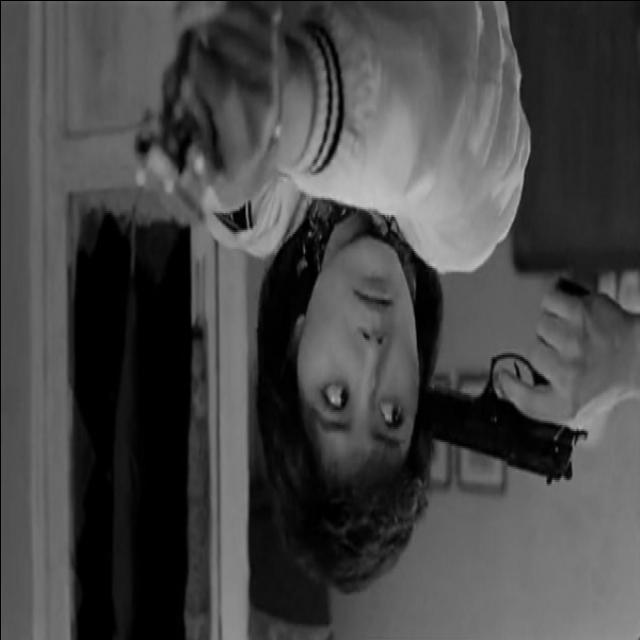weapons: (421, 302, 591, 524), (124, 29, 227, 263)
